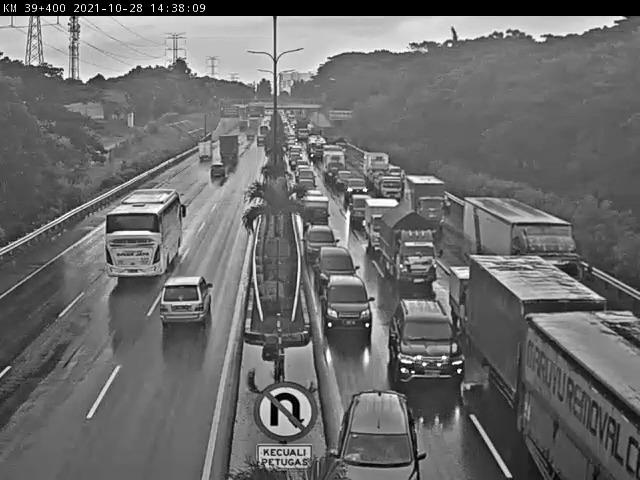big bus: (105, 185, 193, 281)
big truck: (467, 251, 612, 406), (525, 309, 640, 480), (465, 196, 594, 294), (385, 202, 443, 278), (405, 176, 453, 236), (450, 268, 484, 336), (363, 151, 405, 201), (366, 199, 402, 247), (218, 131, 238, 161), (198, 140, 215, 165)
car: (332, 386, 418, 480), (394, 295, 461, 393), (158, 273, 220, 328), (322, 274, 374, 333), (318, 246, 357, 289), (303, 226, 342, 257), (351, 196, 373, 228), (346, 178, 368, 200), (210, 160, 226, 182)
